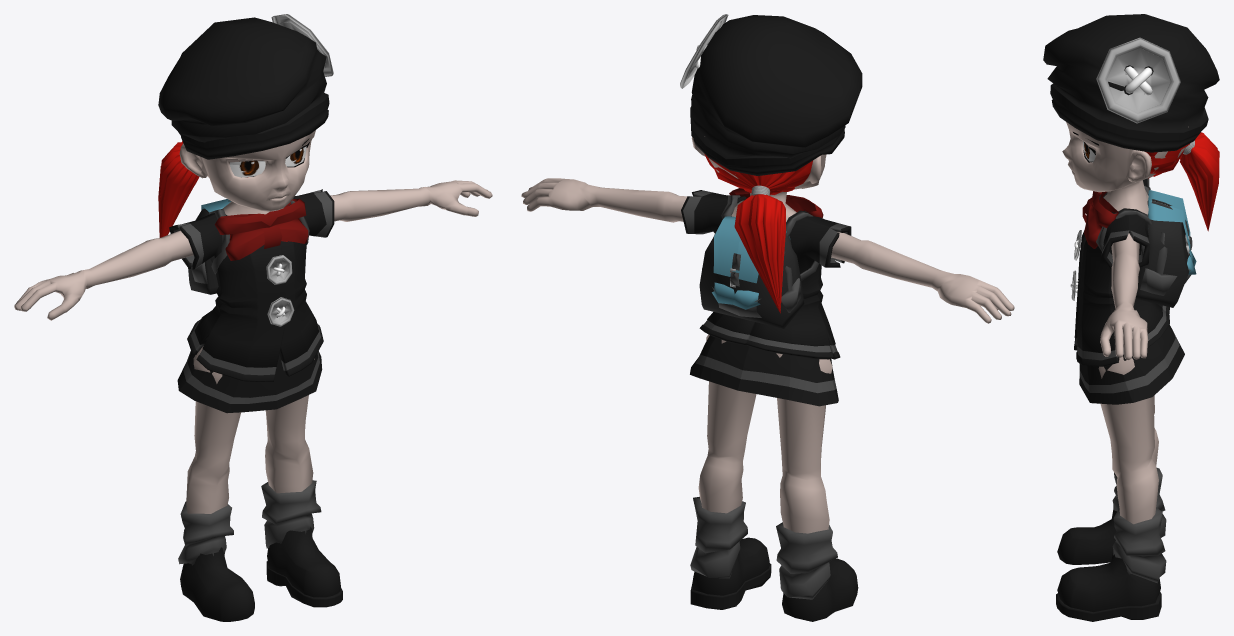
Rendered from ToonGirl.FBX.
3 renders of one model, left to right at view 1: azimuth 30°, elevation 25°; view 2: azimuth 150°, elevation 25°; view 3: azimuth 270°, elevation 25°, orthographic. The views are drawn at different scales.
Parts seen in each view (by area): view 1: Circle, Circle_004, Cube_07, Cube_09, Cube_08, Cube_006, Cube_003, Plane_14, Plane_002, Circle_13, Cube_005, Cube_10 (+9 smaller); view 2: Circle, Circle_004, Cube_09, Circle_001, Cube_003, Cube_07, Cube_006, Circle_13, Cube_10, Cube_005, Plane_14, Circle_012 (+8 smaller); view 3: Circle, Circle_004, Cube_003, Circle_002, Cube_001, Circle_012, Plane_002, Cube_006, Cube_005, Circle_001, Plane_004, Plane_14 (+8 smaller).
Boxes of the visible parts, bbox=[...] form: Circle: bbox=[158, 17, 329, 159]; Circle_004: bbox=[169, 189, 334, 381]; Cube_07: bbox=[14, 230, 193, 320]; Cube_09: bbox=[186, 346, 241, 513]; Cube_08: bbox=[179, 143, 284, 215]; Cube_006: bbox=[330, 180, 492, 221]; Cube_003: bbox=[265, 358, 314, 493]; Plane_14: bbox=[180, 547, 254, 621]; Plane_002: bbox=[267, 527, 340, 597]; Circle_13: bbox=[177, 351, 276, 413]; Cube_005: bbox=[261, 480, 321, 548]; Cube_10: bbox=[178, 501, 233, 565]; Circle: bbox=[690, 15, 862, 175]; Circle_004: bbox=[681, 190, 851, 359]; Cube_09: bbox=[776, 353, 832, 533]; Circle_001: bbox=[704, 154, 812, 313]; Cube_003: bbox=[698, 334, 756, 513]; Cube_07: bbox=[831, 232, 1014, 323]; Cube_006: bbox=[521, 178, 687, 222]; Circle_13: bbox=[738, 346, 838, 406]; Cube_10: bbox=[776, 522, 837, 599]; Cube_005: bbox=[690, 497, 747, 578]; Plane_14: bbox=[782, 558, 858, 621]; Circle_012: bbox=[690, 335, 749, 390]; Circle: bbox=[1043, 14, 1219, 152]; Circle_004: bbox=[1074, 178, 1169, 366]; Cube_003: bbox=[1098, 356, 1158, 524]; Circle_002: bbox=[1096, 37, 1180, 123]; Cube_001: bbox=[1062, 122, 1188, 215]; Circle_012: bbox=[1079, 326, 1184, 404]; Plane_002: bbox=[1057, 551, 1160, 612]; Cube_006: bbox=[1100, 233, 1148, 359]; Cube_005: bbox=[1112, 507, 1166, 583]; Circle_001: bbox=[1145, 132, 1219, 231]; Plane_004: bbox=[1135, 214, 1190, 307]; Plane_14: bbox=[1057, 509, 1116, 564].
Bounding box in the file's own units: 9390 × 3010 × 10726.
Materials: 13 (1 with a texture image).
